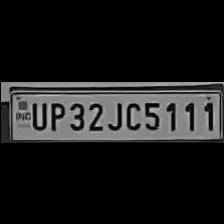1: (196, 97, 216, 131), (178, 98, 198, 130), (162, 98, 180, 132)
2: (84, 97, 104, 131)
3: (64, 98, 84, 130)
5: (139, 97, 161, 130)
C: (122, 97, 140, 130)
J: (104, 97, 122, 130)
P: (46, 98, 64, 132)
U: (27, 98, 46, 130)
